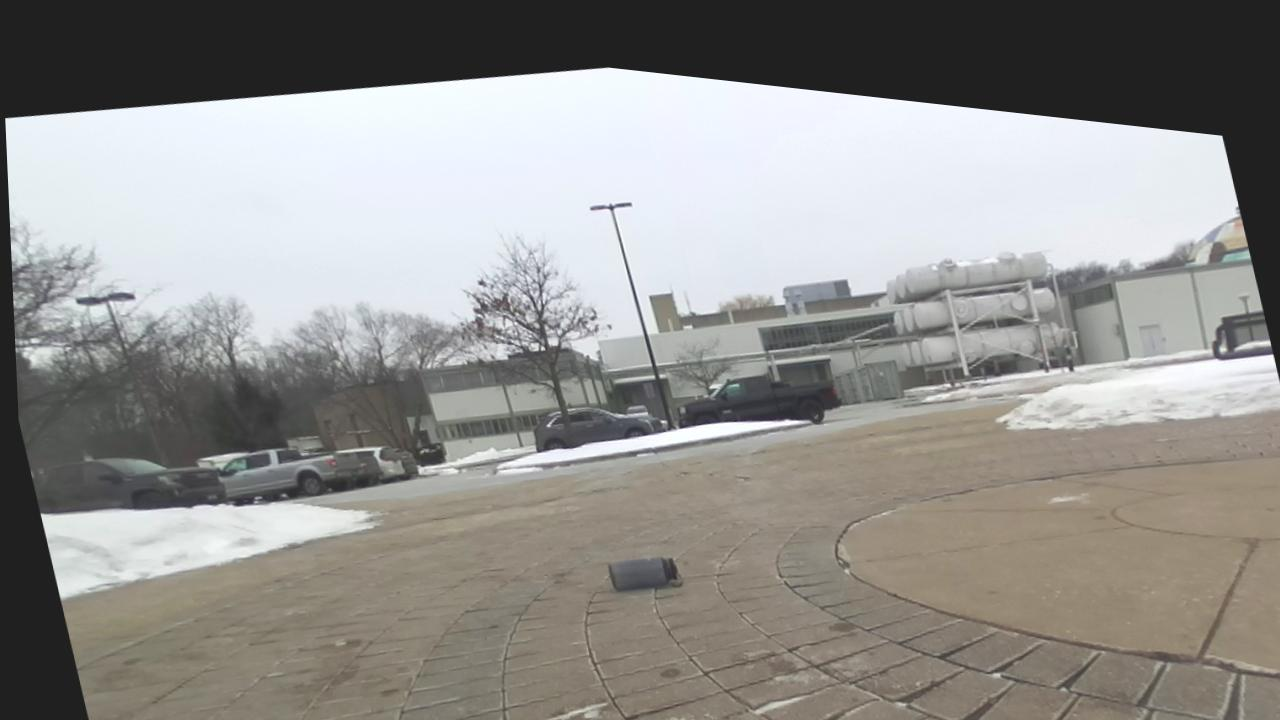bottle: (608, 558, 681, 590)
